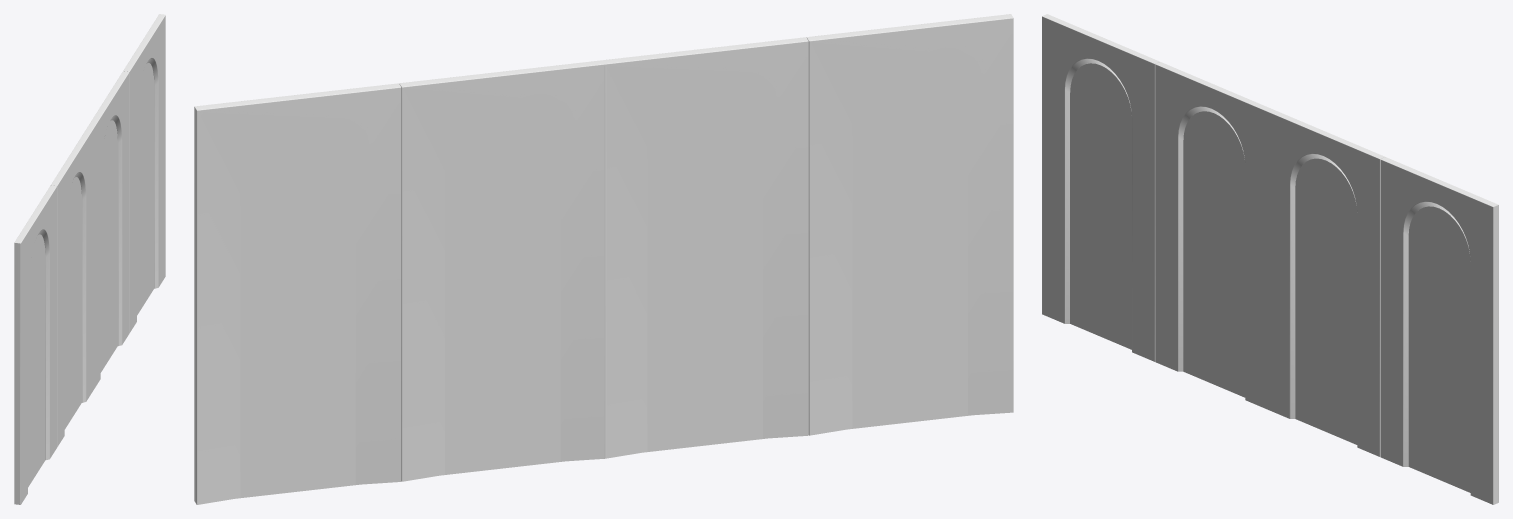
Rendered from tvtable_0302_door.glb.
The picture shows the model from 3 angles, left to right: view 1: azimuth 30°, elevation 25°; view 2: azimuth 150°, elevation 25°; view 3: azimuth 270°, elevation 25°; orthographic projection. The views are drawn at different scales.
Visible parts, largest first — view 1: tvtable_0302_door; view 2: tvtable_0302_door; view 3: tvtable_0302_door.
Part boxes in pixels (box(x1,y1,x2,y2)): tvtable_0302_door: box(14, 14, 165, 504); tvtable_0302_door: box(194, 14, 1013, 504); tvtable_0302_door: box(1042, 14, 1498, 504).
Bounding box in the file's own units: 1.14 × 0.823 × 1.14.
1 material, 1 textured.
